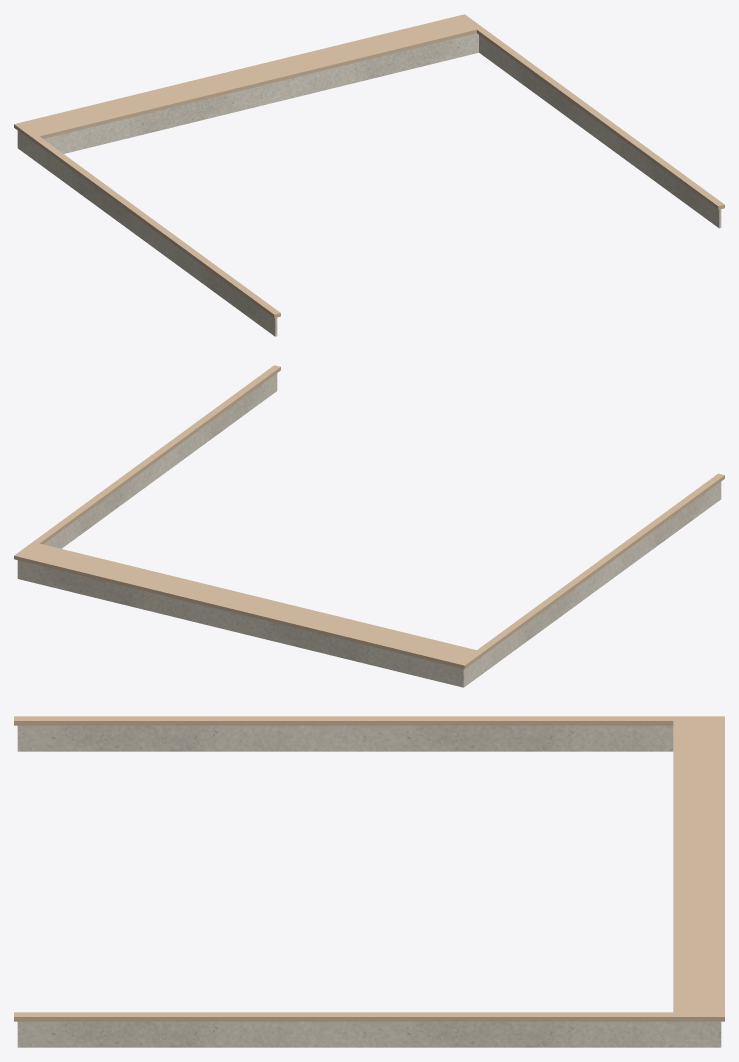
File: stair_core_slab_192_192_29.glb
The picture shows the model from 3 angles, top to bottom: view 1: azimuth 30°, elevation 25°; view 2: azimuth 150°, elevation 25°; view 3: azimuth 270°, elevation 25°; orthographic projection. The views are drawn at different scales.
Parts seen in each view (by area): view 1: stair_core_slab_192_192_29_plaster, stair_core_slab_192_192_29_floor; view 2: stair_core_slab_192_192_29_plaster, stair_core_slab_192_192_29_floor; view 3: stair_core_slab_192_192_29_plaster, stair_core_slab_192_192_29_floor.
Part boxes in pixels (left/top/right/bottom): stair_core_slab_192_192_29_plaster: left=17, top=33, right=721, bottom=336; stair_core_slab_192_192_29_floor: left=14, top=14, right=724, bottom=318; stair_core_slab_192_192_29_plaster: left=17, top=373, right=721, bottom=687; stair_core_slab_192_192_29_floor: left=14, top=365, right=724, bottom=669; stair_core_slab_192_192_29_plaster: left=17, top=725, right=721, bottom=1047; stair_core_slab_192_192_29_floor: left=14, top=716, right=724, bottom=1021.
Bounding box in the file's own units: 4 × 0.2 × 4.
Materials: 2 (1 with a texture image).
